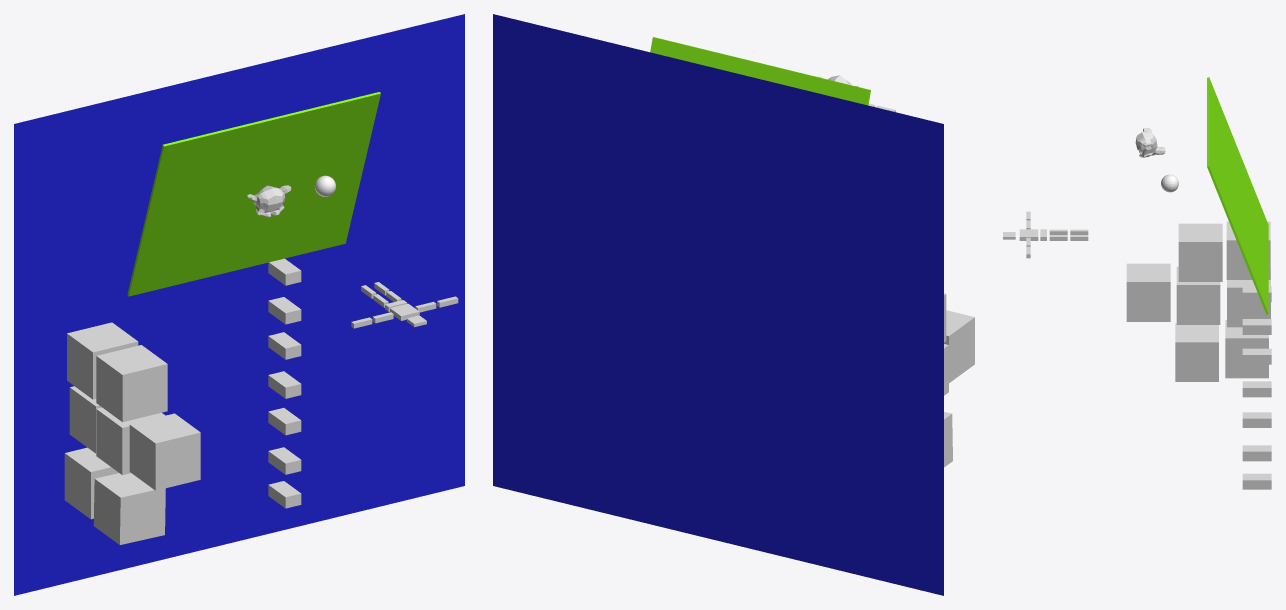
Rendered from game.glb.
The picture shows the model from 3 angles, left to right: view 1: azimuth 30°, elevation 25°; view 2: azimuth 150°, elevation 25°; view 3: azimuth 270°, elevation 25°; orthographic projection. The views are drawn at different scales.
Parts seen in each view (by area): view 1: Ground, sideway, Cube.033, Cube.036, Cube.025, Cube.035, Cube.031, Cube.032, Cube.034, Suzanne, Cube.026, Cube.027 (+5 smaller); view 2: Ground, sideway, Cube.033; view 3: sideway, Cube.033, Cube.036, Cube.025, Cube.032, Cube.031, Cube.034, Cube.035, Suzanne, Cube.026, Cube.027, Cube.029 (+3 smaller).
Part boxes in pixels (x1,y1,x2,y2): Ground: [14, 14, 464, 595]; sideway: [127, 92, 380, 296]; Cube.033: [129, 413, 200, 490]; Cube.036: [96, 345, 167, 422]; Cube.025: [93, 473, 165, 544]; Cube.035: [67, 322, 138, 399]; Cube.031: [64, 447, 118, 519]; Cube.032: [96, 407, 165, 475]; Cube.034: [69, 386, 101, 453]; Suzanne: [247, 185, 291, 217]; Cube.026: [268, 332, 301, 359]; Cube.027: [268, 371, 301, 398]; Ground: [493, 14, 943, 595]; sideway: [650, 37, 870, 105]; Cube.033: [944, 310, 974, 382]; sideway: [1207, 77, 1268, 314]; Cube.033: [1126, 263, 1170, 321]; Cube.036: [1178, 223, 1222, 281]; Cube.025: [1175, 323, 1218, 381]; Cube.032: [1176, 266, 1220, 324]; Cube.031: [1225, 320, 1268, 378]; Cube.034: [1227, 269, 1270, 327]; Cube.035: [1226, 221, 1270, 279]; Suzanne: [1135, 128, 1165, 157]; Cube.026: [1242, 348, 1271, 364]; Cube.027: [1242, 381, 1271, 397]; Cube.029: [1242, 445, 1271, 461].
Bounding box in the file's own units: 48.72 × 48.72 × 29.91.
